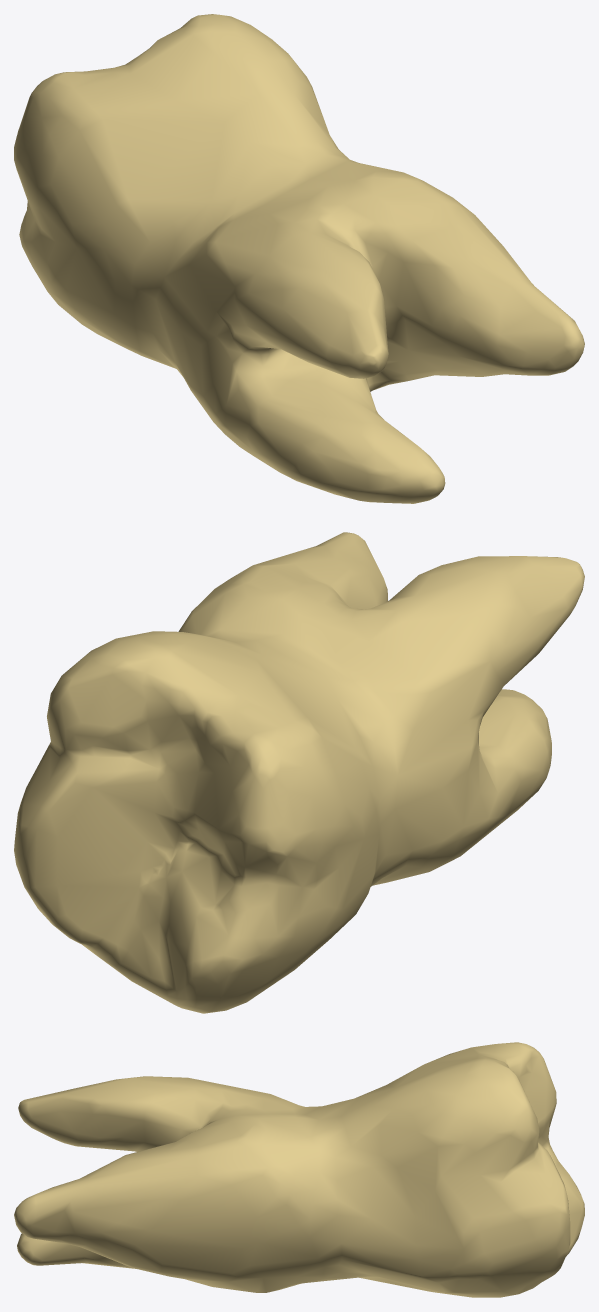
3 renders of one model, top to bottom at view 1: azimuth 30°, elevation 25°; view 2: azimuth 150°, elevation 25°; view 3: azimuth 270°, elevation 25°, orthographic. The views are drawn at different scales.
Parts seen in each view (by area): view 1: 右侧上颌第一磨牙; view 2: 右侧上颌第一磨牙; view 3: 右侧上颌第一磨牙.
Boxes of the visible parts, box(x1,y1,x2,y2) form: 右侧上颌第一磨牙: box(14, 14, 584, 503); 右侧上颌第一磨牙: box(14, 532, 584, 1013); 右侧上颌第一磨牙: box(14, 1042, 584, 1297).
Bounding box in the file's own units: 0.0167 × 0.0166 × 0.0353.
